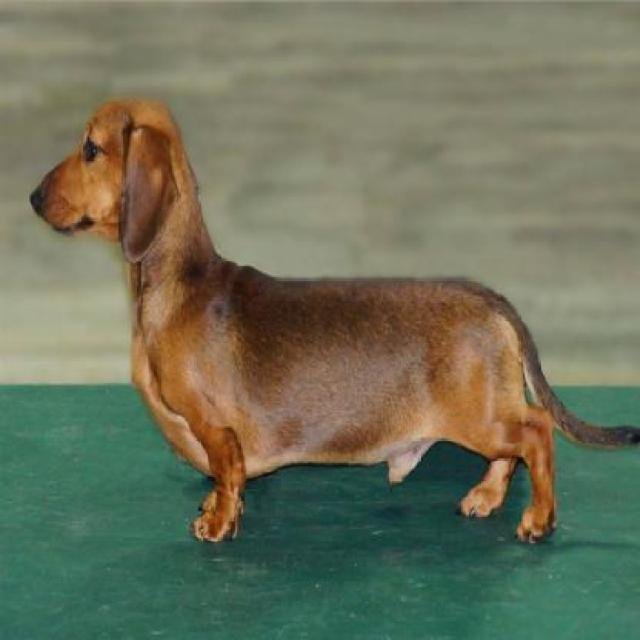Dog: (24, 95, 638, 556)
